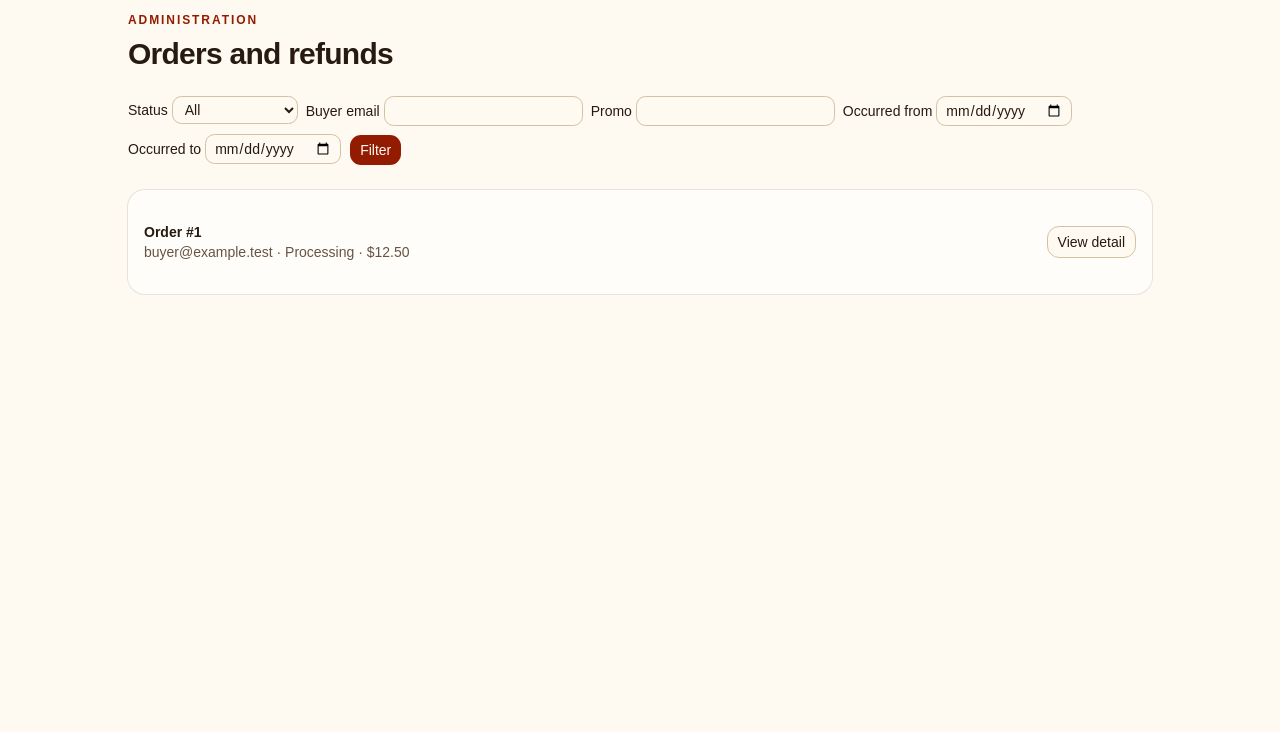
it: AdminOrdersPage › localizes non-UK money and shows authoritative GBP balance beside it
The width and height of the screenshot is (1280, 732).
What coordinates should you click on to do the following:
click the button "View detail"
I would click on:
 (1091, 242)
Its box is [1046,226,1136,258].
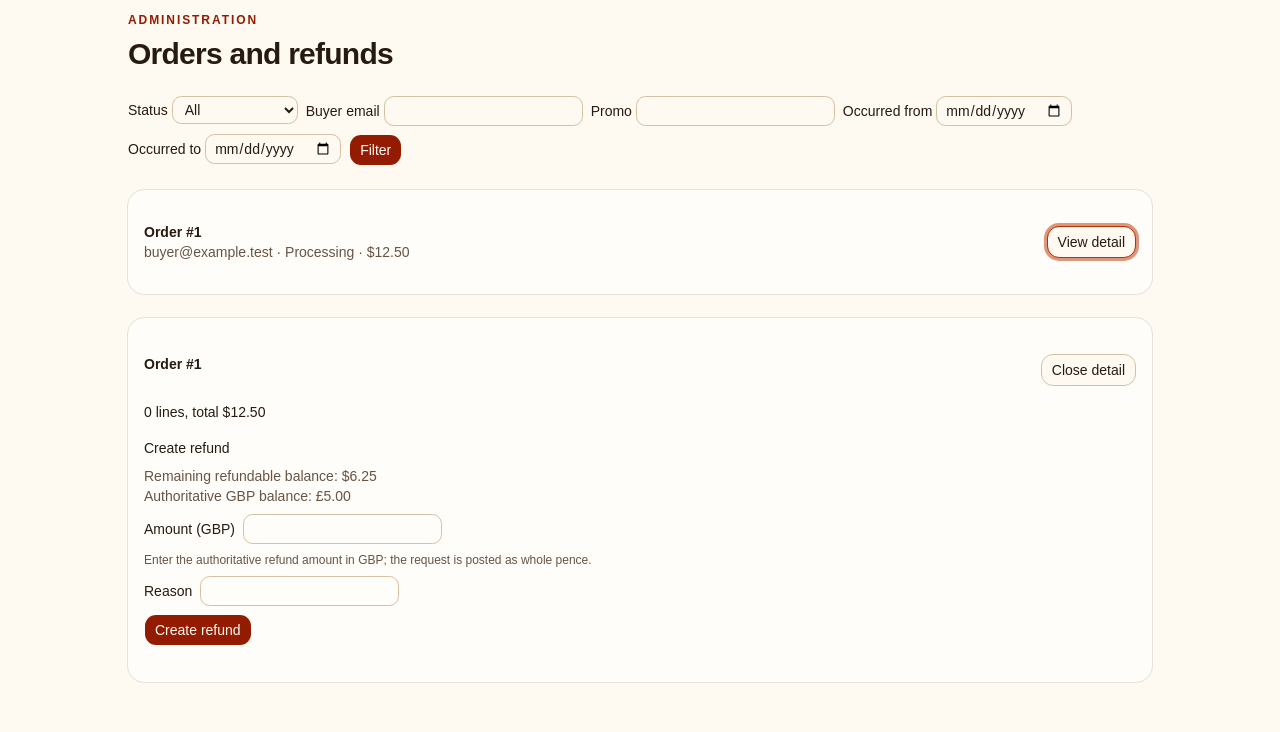
Result: the text "Remaining refundable balance: $6.25" is shown at [144,468,377,484]
Result: the text "Authoritative GBP balance: £5.00" is shown at [144,488,351,504]
Result: the number field labelled "Amount (GBP)" is shown at [243,514,442,544]
